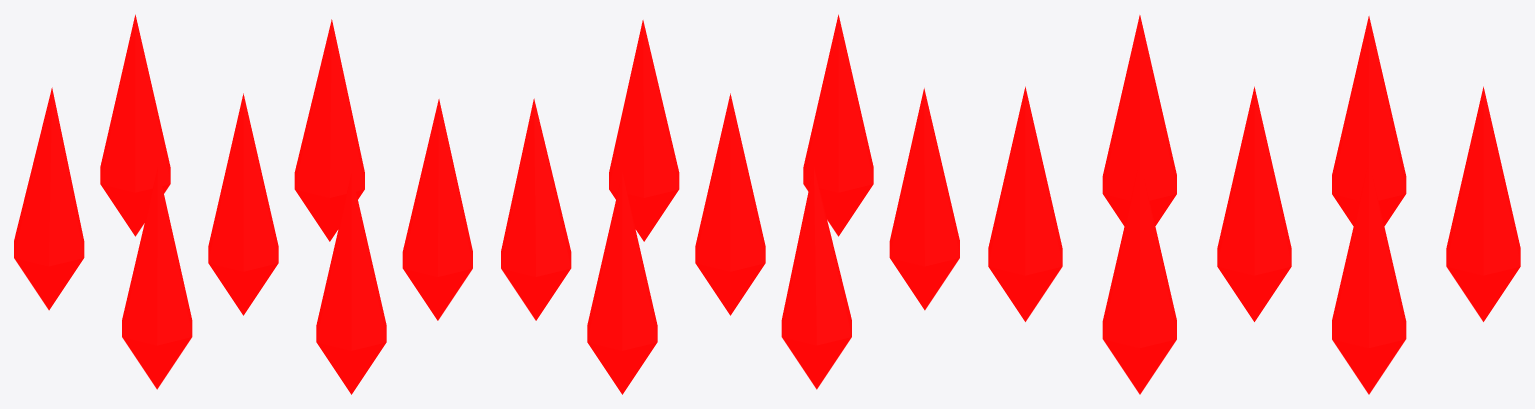
The model's file is trap-spike-launcher-projectile.glb.
The picture shows the model from 3 angles, left to right: view 1: azimuth 30°, elevation 25°; view 2: azimuth 150°, elevation 25°; view 3: azimuth 270°, elevation 25°; orthographic projection. The views are drawn at different scales.
Visible parts, largest first — view 1: Spikes; view 2: Spikes; view 3: Spikes.
Part boxes in pixels (<box>): Spikes: <box>14,14,472,394</box>; Spikes: <box>501,14,959,394</box>; Spikes: <box>988,15,1520,394</box>.
Bounding box in the file's own units: 1.2 × 0.728 × 1.49.
